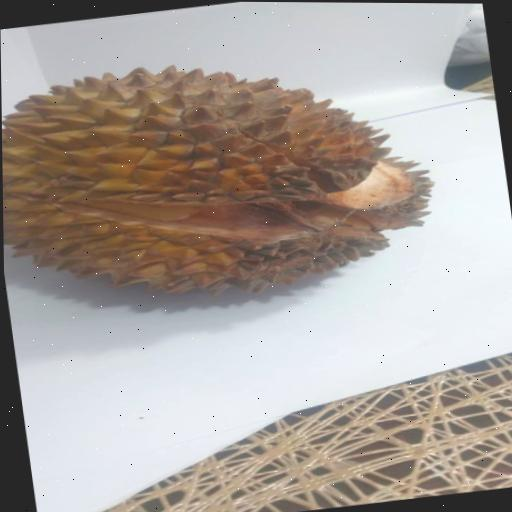rot: (0, 14, 472, 337)
